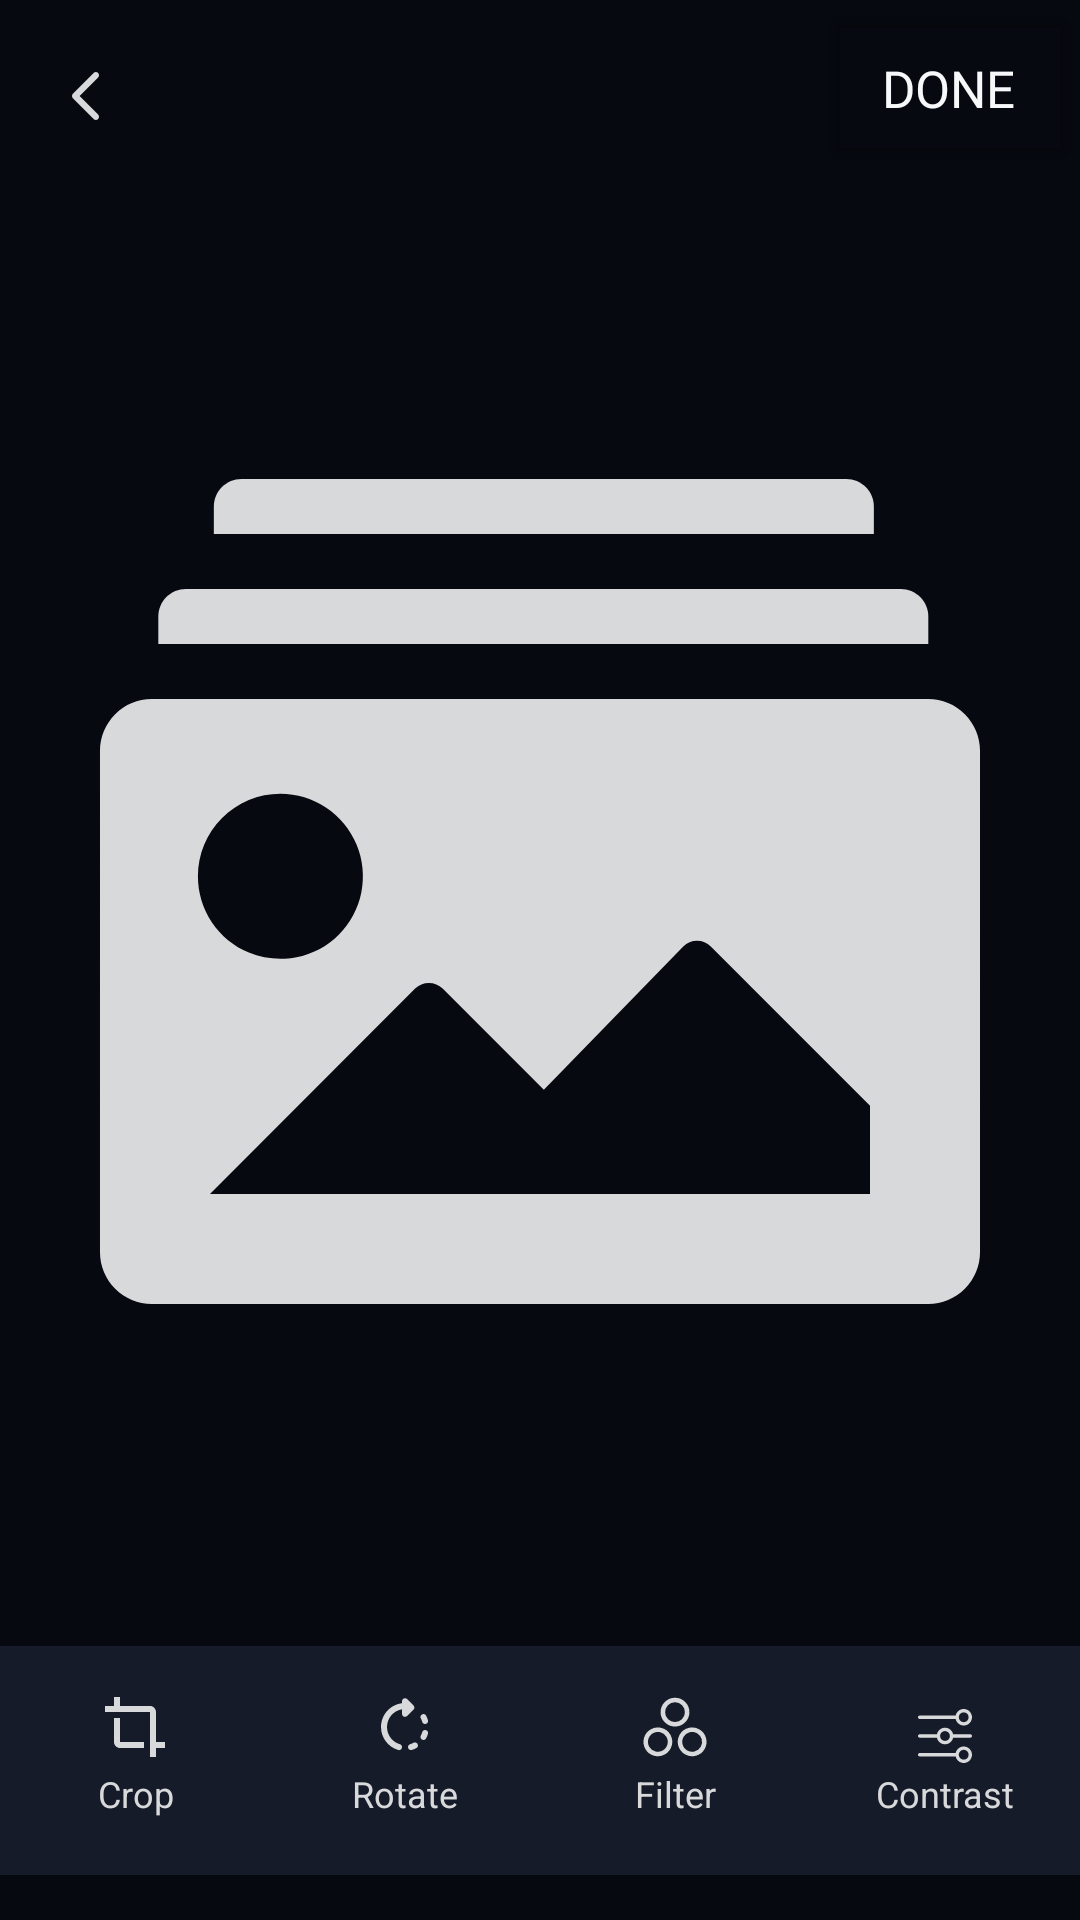

Where icons sit on this 1080px×1920px app screen, as (x1, y1, x2, y2):
Back btn: (72, 72, 99, 120)
